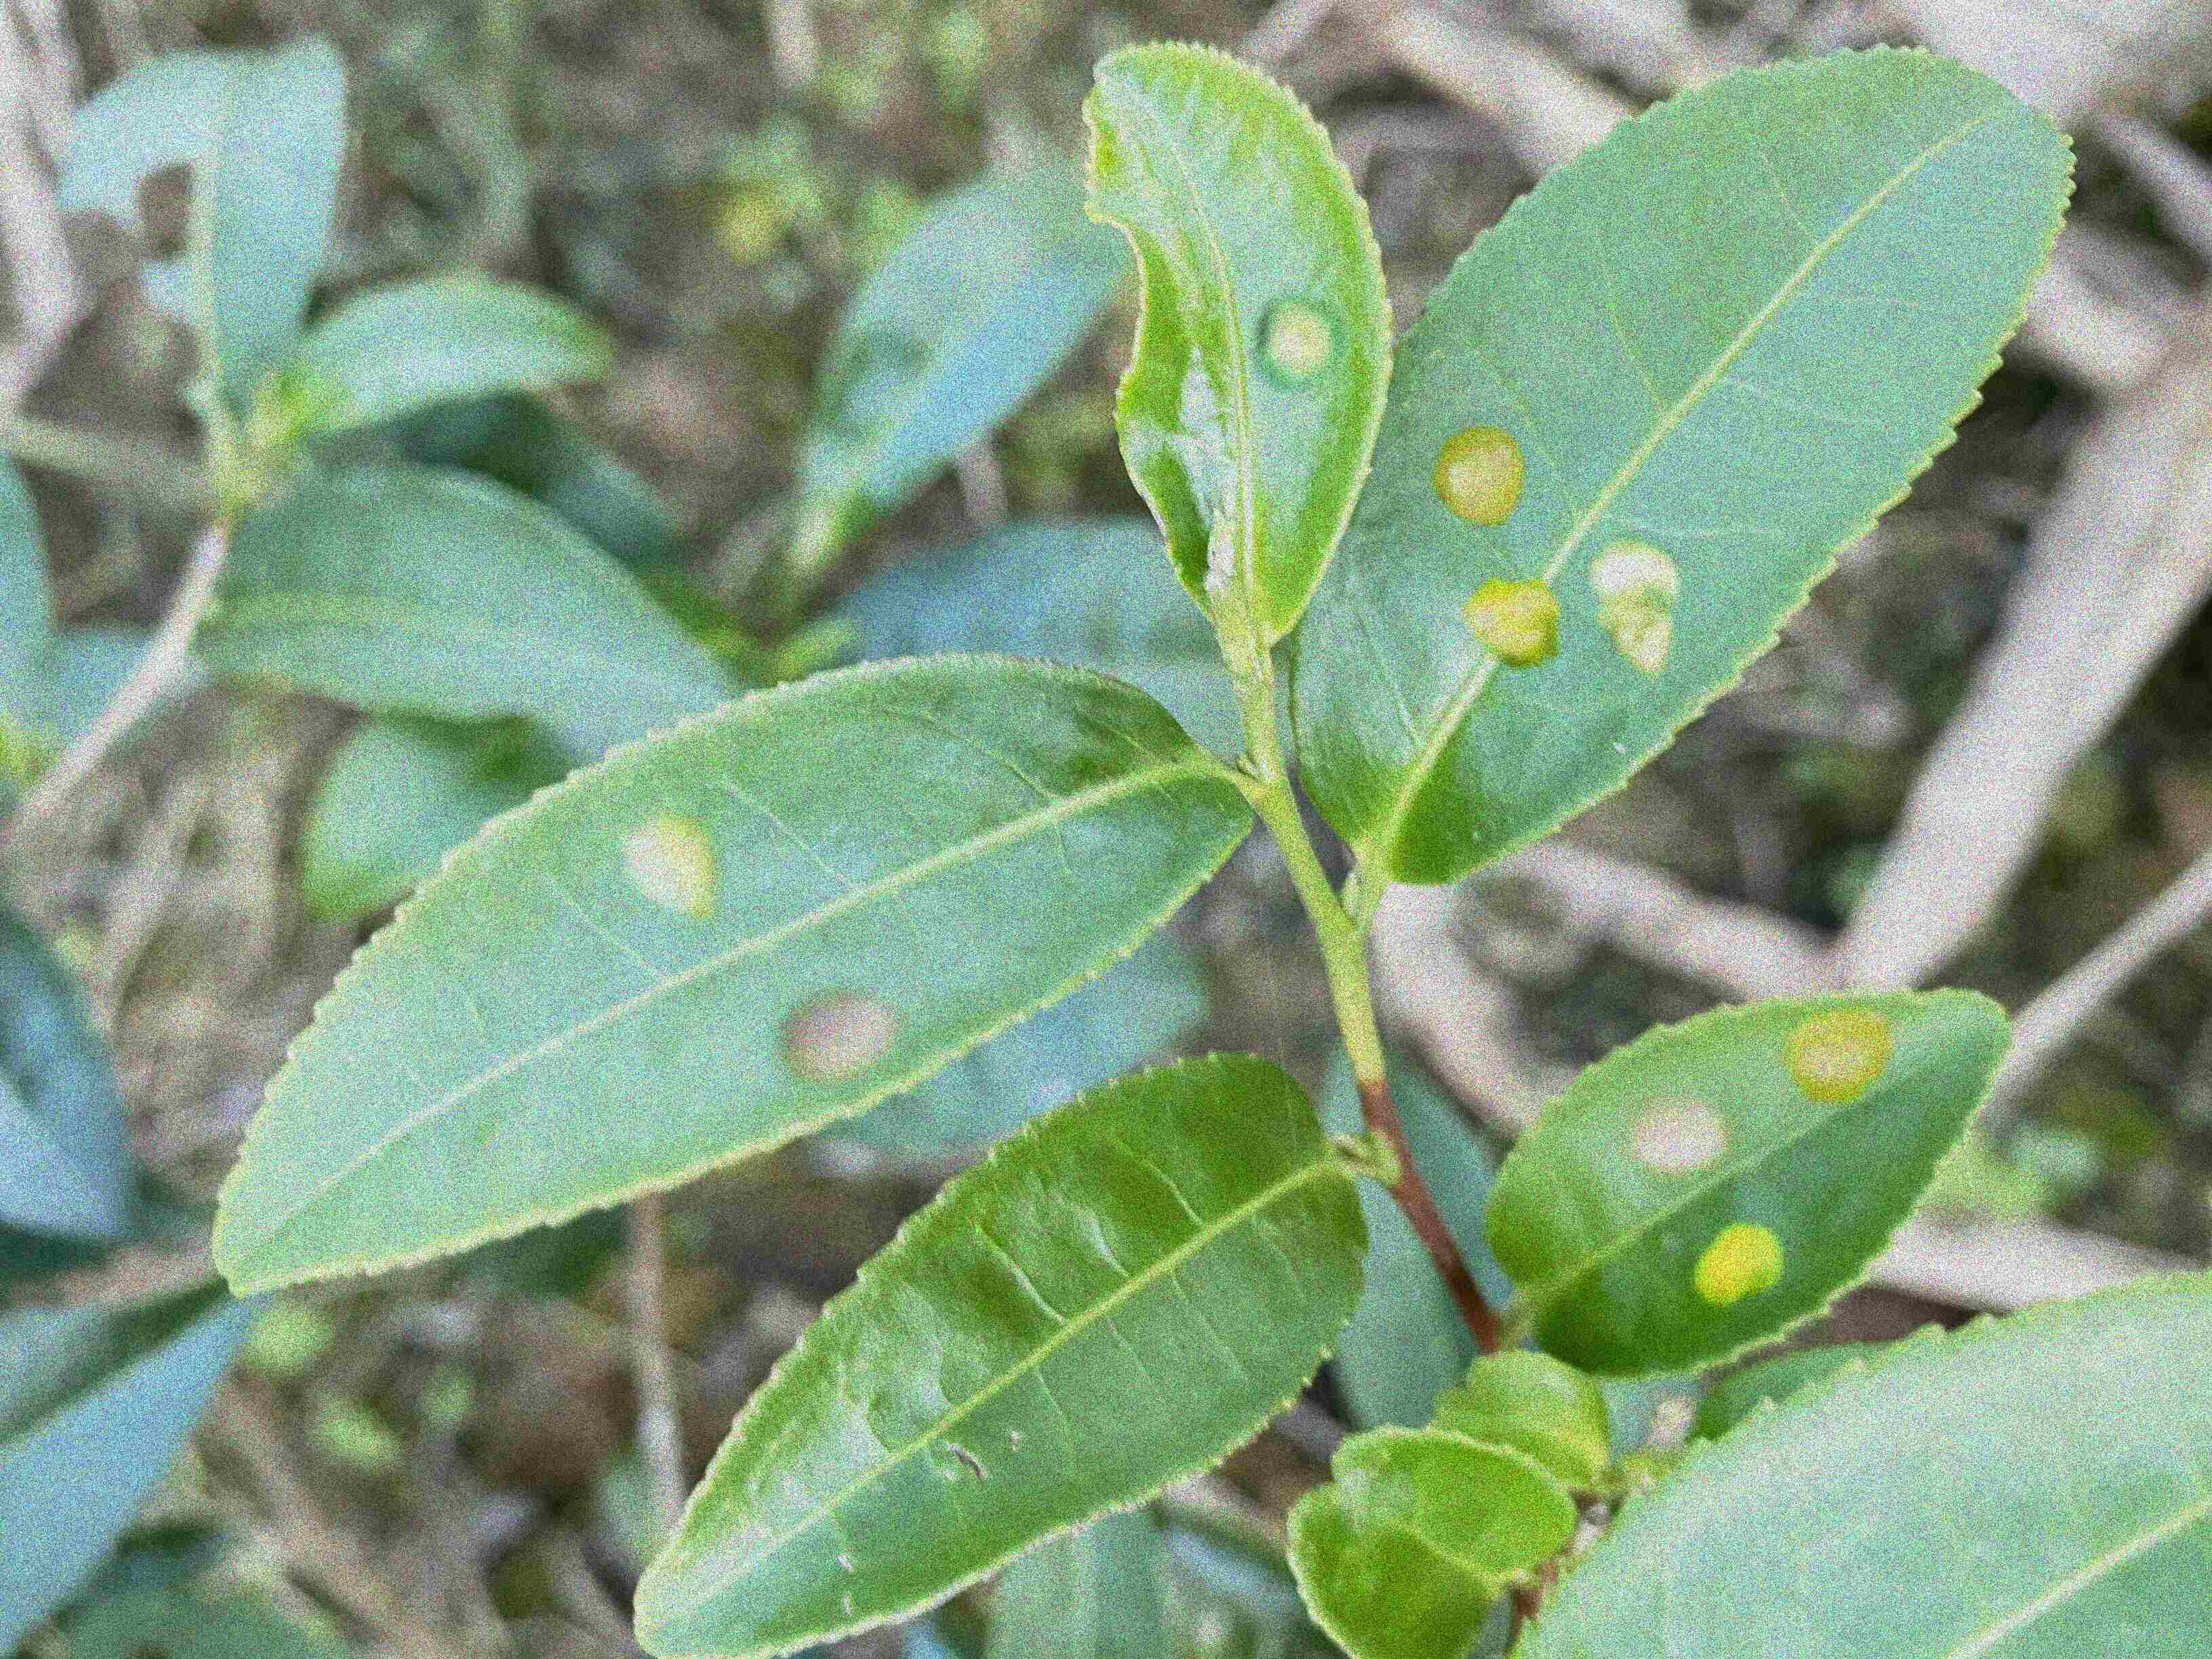chabing_high: (209, 655, 1256, 1302), (1289, 42, 2078, 890), (1480, 983, 2013, 1375)
chabing_low: (1076, 31, 1399, 650)
